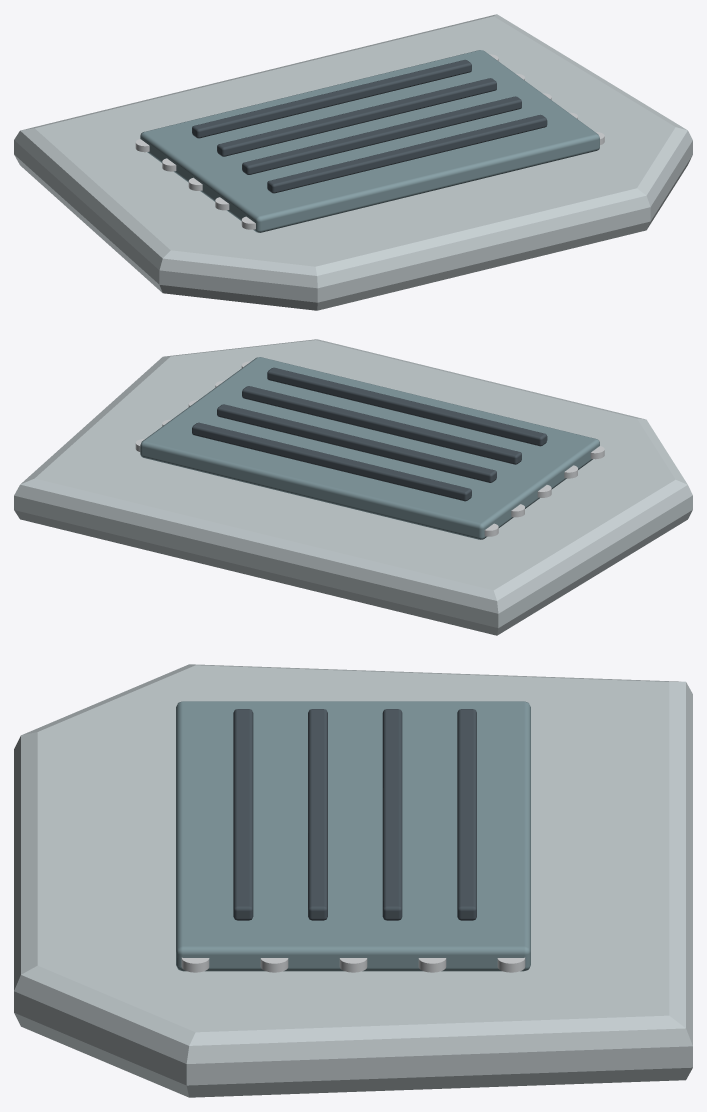
3 renders of one model, top to bottom at view 1: azimuth 30°, elevation 25°; view 2: azimuth 150°, elevation 25°; view 3: azimuth 270°, elevation 25°, orthographic. The views are drawn at different scales.
Visible parts, largest first — view 1: armour-plate; view 2: armour-plate; view 3: armour-plate.
Boxes of the visible parts, left/top/right/bottom form: armour-plate: left=14, top=14, right=692, bottom=310; armour-plate: left=14, top=339, right=692, bottom=635; armour-plate: left=14, top=664, right=692, bottom=1097.
Bounding box in the file's own units: 2.32 × 0.2949 × 1.72.
